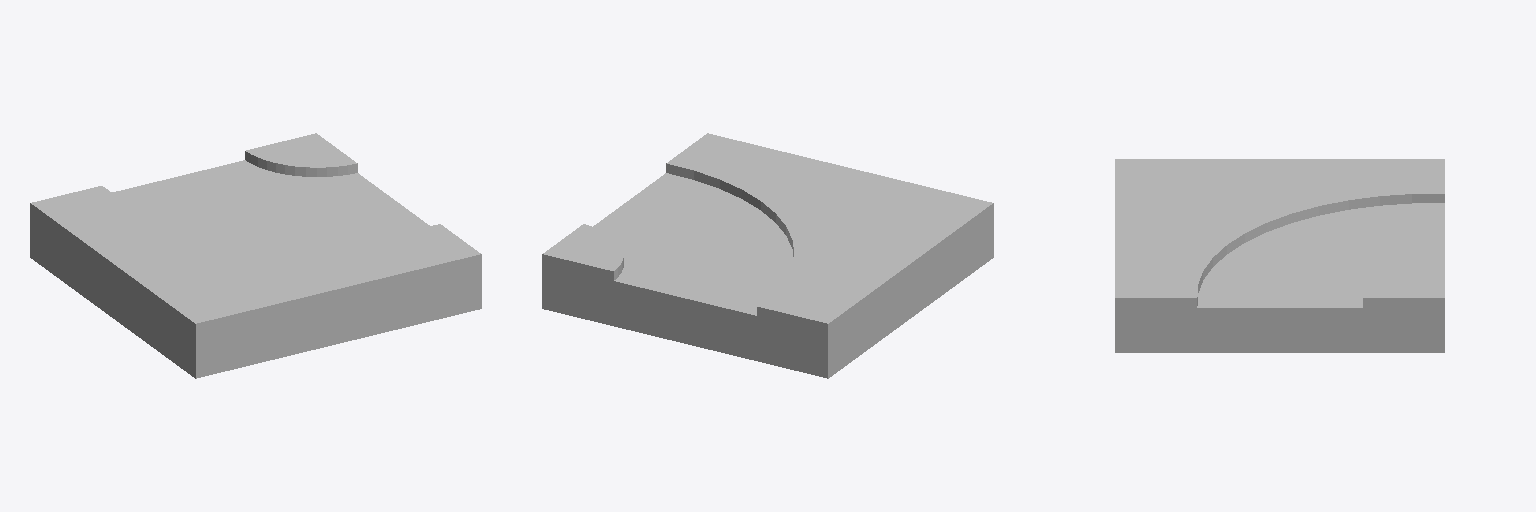
File: roadTile_185.obj
3 views of the same model, side by side, from view 1: azimuth 30°, elevation 25°; view 2: azimuth 150°, elevation 25°; view 3: azimuth 270°, elevation 25° (orthographic).
Visible parts, largest first — view 1: Mesh1 Group1 Model; view 2: Mesh1 Group1 Model; view 3: Mesh1 Group1 Model.
Boxes of the visible parts, box(x1,y1,x2,y2) form: Mesh1 Group1 Model: box(30, 133, 481, 378); Mesh1 Group1 Model: box(542, 133, 993, 378); Mesh1 Group1 Model: box(1115, 159, 1444, 352).
Bounding box in the file's own units: 3 × 0.55 × 3.